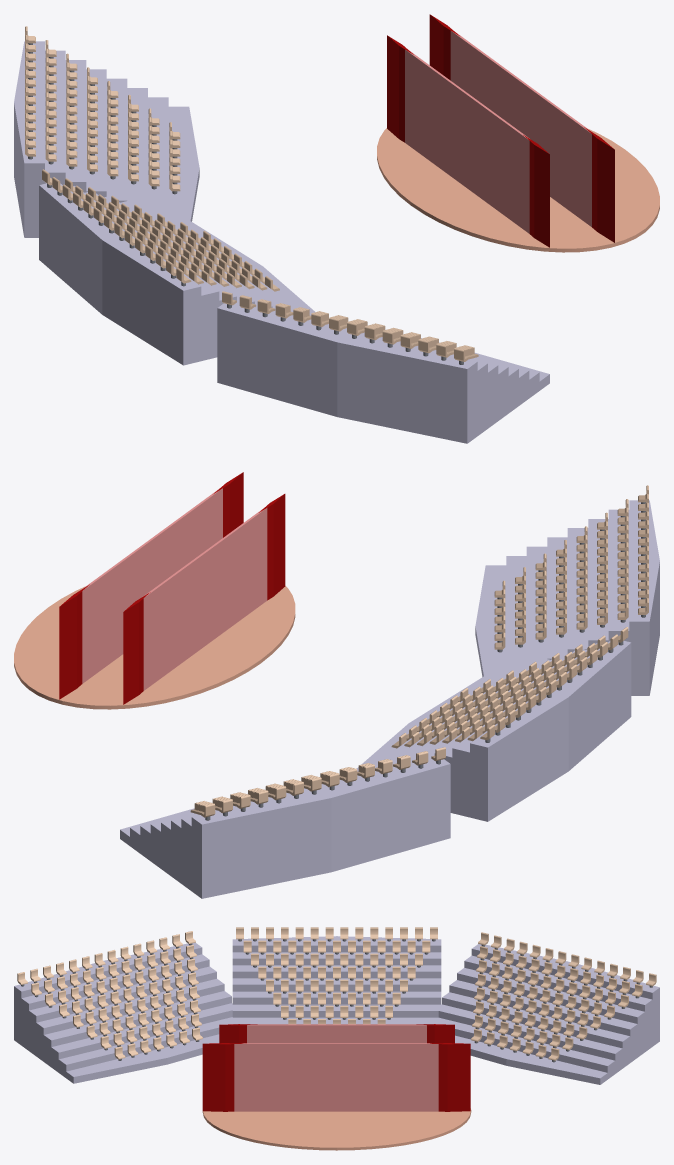
Rendered from Auditorium.glb.
3 views of the same model, one above another, from view 1: azimuth 30°, elevation 25°; view 2: azimuth 150°, elevation 25°; view 3: azimuth 270°, elevation 25° (orthographic). The views are drawn at different scales.
Visible parts, largest first — view 1: Auditorium; view 2: Auditorium; view 3: Auditorium.
Part boxes in pixels (x1,y1,x2,y2): Auditorium: (14,14,659,443); Auditorium: (14,472,659,898); Auditorium: (14,927,659,1150).
Bounding box in the file's own units: 29.3 × 7 × 43.32.
